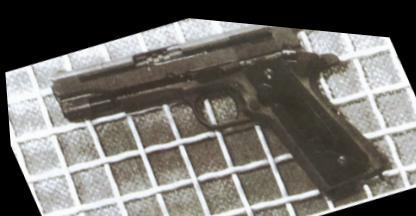pistol: (35, 2, 397, 213)
